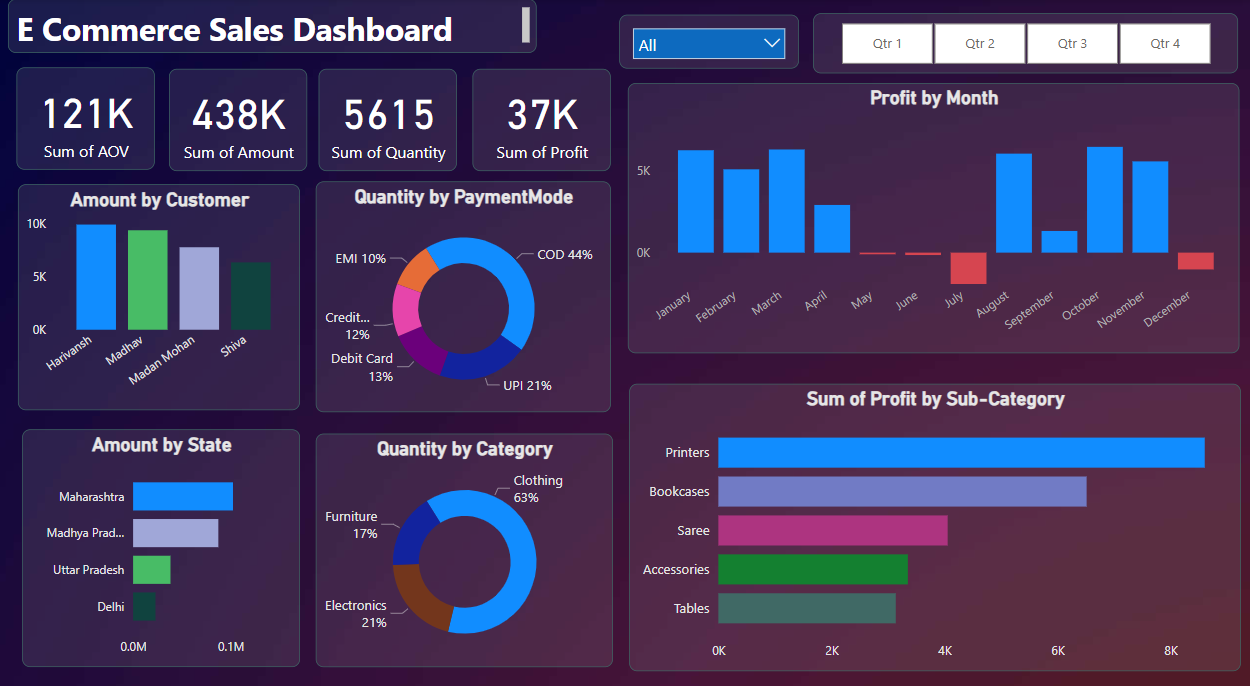

What the dashboard file says about the page in this screenshot:
{"tool":"powerbi","page":{"name":"Page 1","canvas":[1280,720],"ordinal":0},"visuals":[{"type":"textbox","box":[10.3,0,537.1,54.9],"z":0},{"type":"columnChart","title":"Profit by Month","fields":{"Y":["Details.Profit"],"Category":["Orders.Order Date.Variation.Date Hierarchy.Month"]},"box":[640,85.8,621.2,274.5],"z":1000},{"type":"barChart","fields":{"Y":["Details.Profit"],"Category":["Details.Sub-Category"]},"box":[641.8,391.2,621.2,291.7],"z":2000},{"type":"donutChart","title":"Quantity by Category","fields":{"Category":["Details.Category"],"Y":["Details.Quantity"]},"box":[322.1,441.8,301.6,236.9],"z":3000},{"type":"donutChart","title":"Quantity by PaymentMode","fields":{"Category":["Details.PaymentMode"],"Y":["Details.Quantity"]},"box":[322.4,184.7,299.6,234.4],"z":4000},{"type":"card","fields":{"Values":["Details.AOV"]},"box":[18.7,69.3,140.4,104.2],"z":5000},{"type":"barChart","title":"Amount by State","fields":{"Category":["Orders.State"],"Y":["Details.Amount"]},"box":[24.6,436.7,282.2,241.7],"z":6000},{"type":"columnChart","title":"Amount by Customer","fields":{"Y":["Details.Amount"],"Category":["Orders.CustomerName"]},"box":[20.2,187.5,286.6,229.3],"z":7000},{"type":"card","fields":{"Values":["Details.Amount"]},"box":[173.2,70.5,140.4,104.2],"z":8000},{"type":"card","fields":{"Values":["Details.Quantity"]},"box":[325.5,71.5,140.4,104.2],"z":9000},{"type":"card","fields":{"Values":["Details.Profit"]},"box":[481.9,71.5,140.4,104.2],"z":10000},{"type":"slicer","fields":{"Values":["Orders.Order Date.Variation.Date Hierarchy.Quarter"]},"box":[828.2,14.5,431.3,60.8],"z":11000},{"type":"slicer","fields":{"Values":["Orders.State"]},"box":[631.4,16.4,182.3,55],"z":12000}]}

Visuals, with their boxes in screenshot pixels (x1, y1, x2, y2), scaled from the page's 1280x720 canvas onto the 1250x686 screenshot:
textbox: Rect(10, 0, 535, 52)
"Profit by Month" columnChart: Rect(625, 82, 1232, 343)
barChart - Details.Profit x Details.Sub-Category: Rect(627, 373, 1233, 651)
"Quantity by Category" donutChart: Rect(315, 421, 609, 647)
"Quantity by PaymentMode" donutChart: Rect(315, 176, 607, 399)
card - Details.AOV: Rect(18, 66, 155, 165)
"Amount by State" barChart: Rect(24, 416, 300, 646)
"Amount by Customer" columnChart: Rect(20, 179, 300, 397)
card - Details.Amount: Rect(169, 67, 306, 166)
card - Details.Quantity: Rect(318, 68, 455, 167)
card - Details.Profit: Rect(471, 68, 608, 167)
slicer - Orders.Order Date.Variation.Date Hierarchy.Quarter: Rect(809, 14, 1230, 72)
slicer - Orders.State: Rect(617, 16, 795, 68)
